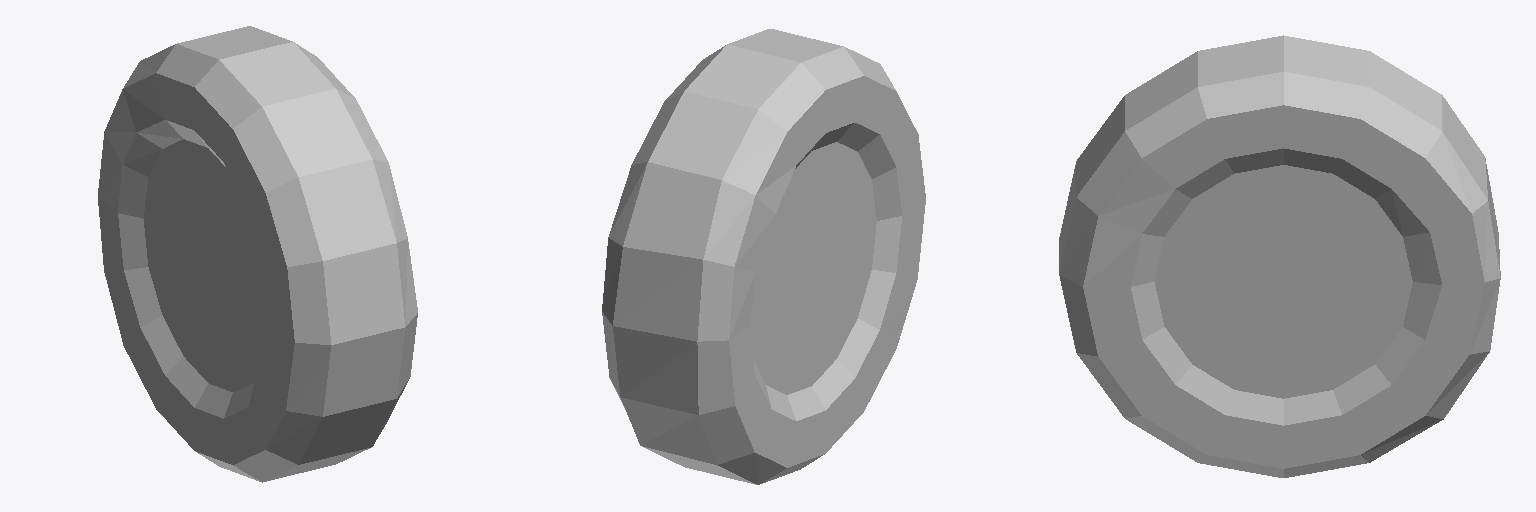
Rendered from truck_wheel_left.obj.
3 renders of one model, left to right at view 1: azimuth 30°, elevation 25°; view 2: azimuth 150°, elevation 25°; view 3: azimuth 270°, elevation 25°, orthographic.
Parts seen in each view (by area): view 1: wheel.001_ID38.005; view 2: wheel.001_ID38.005; view 3: wheel.001_ID38.005.
Part boxes in pixels (x1,y1,x2,y2): wheel.001_ID38.005: (98,26,417,482); wheel.001_ID38.005: (602,29,925,484); wheel.001_ID38.005: (1059,35,1500,477).
Size of the model in its own units: 0.5963 by 1.82 by 1.79.